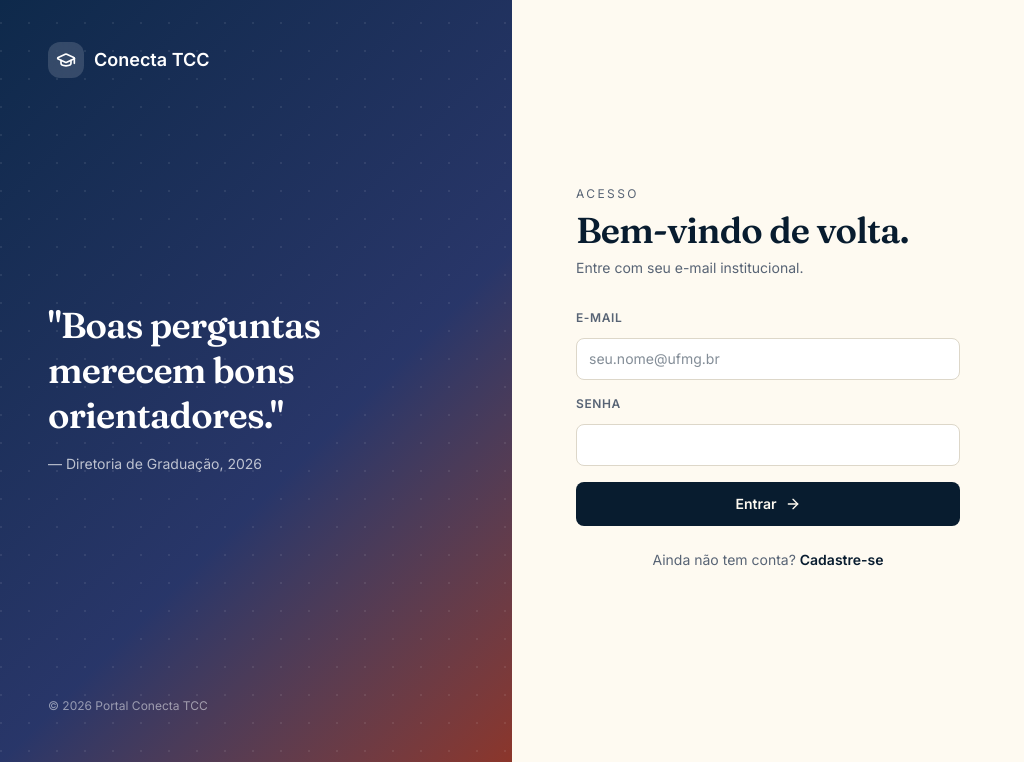
Test: LoginPage › switches to registration mode when toggle is clicked
Step 1. Click the button "Cadastre-se" → click(842, 560), box [800,550,884,570]
(page scrolled)
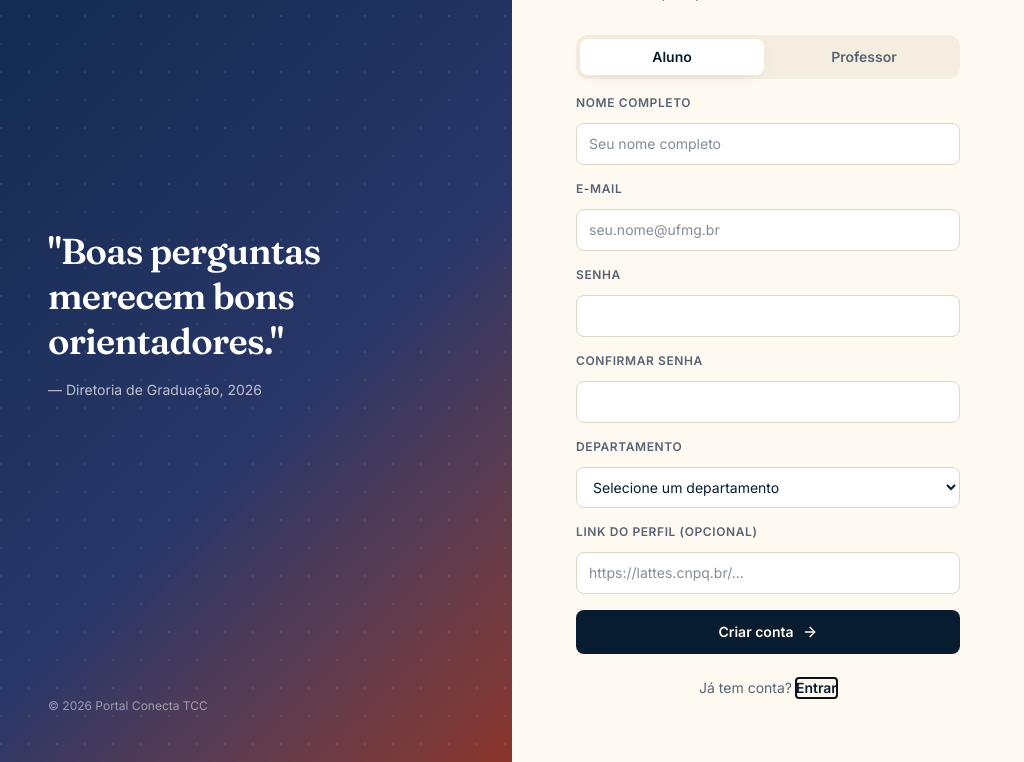
expect the button "Criar conta" is shown: met, box [576,610,960,654]
